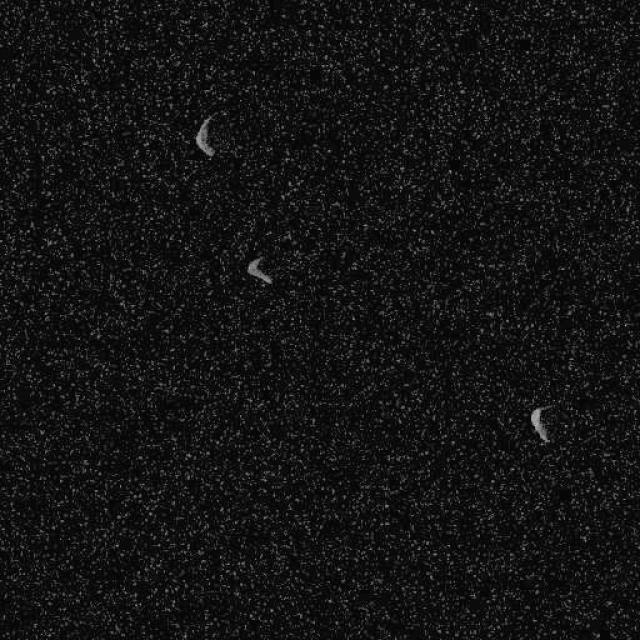D2: (194, 112, 216, 158), (528, 404, 552, 444), (245, 255, 273, 285)
